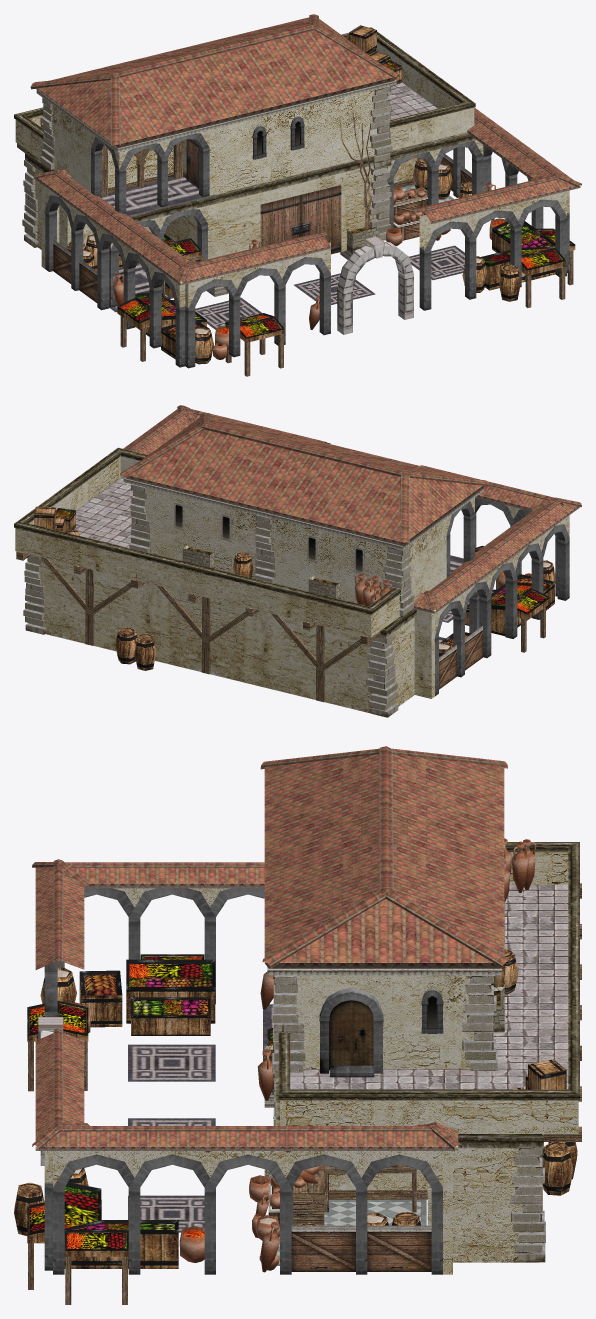
File: rome_market_struct2.dae
The picture shows the model from 3 angles, top to bottom: view 1: azimuth 30°, elevation 25°; view 2: azimuth 150°, elevation 25°; view 3: azimuth 270°, elevation 25°; orthographic projection. The views are drawn at different scales.
Visible parts, largest first — view 1: rome_market_struct2; view 2: rome_market_struct2; view 3: rome_market_struct2.
Part boxes in pixels (x1,y1,x2,y2): rome_market_struct2: (14, 14, 581, 376); rome_market_struct2: (14, 405, 581, 717); rome_market_struct2: (14, 746, 581, 1304).
Size of the model in its own units: 31.66 by 26.21 by 15.85.
